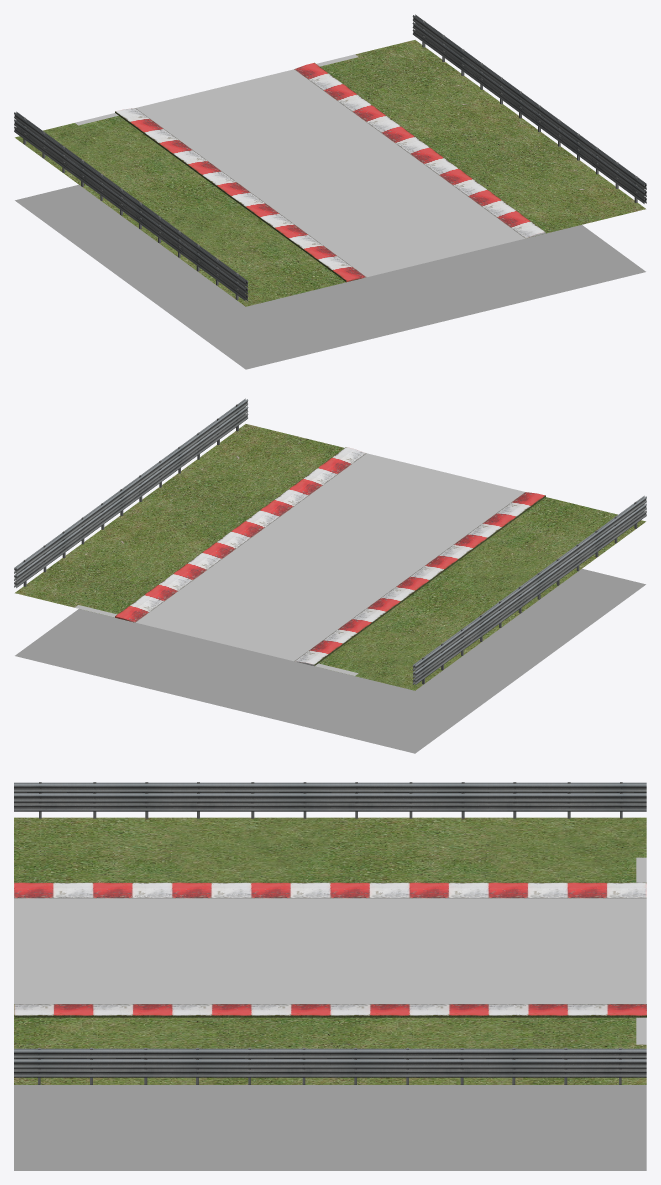
File: Track_Thin_Join_A.fbx
The picture shows the model from 3 angles, top to bottom: view 1: azimuth 30°, elevation 25°; view 2: azimuth 150°, elevation 25°; view 3: azimuth 270°, elevation 25°; orthographic projection. The views are drawn at different scales.
Visible parts, largest first — view 1: Grass, Snap_Plane_Invisible, Road, Rail_A, Rail_B, Curb_B, Curb_A; view 2: Grass, Snap_Plane_Invisible, Road, Rail_A, Rail_B, Curb_B, Curb_A; view 3: Road, Grass, Snap_Plane_Invisible, Rail_A, Rail_B, Curb_A, Curb_B, Join_Lines.
Boxes of the visible parts, x1,y1,x2,y2 form: Grass: (15, 40, 645, 306); Snap_Plane_Invisible: (15, 184, 645, 369); Road: (136, 69, 524, 276); Rail_A: (14, 111, 248, 300); Rail_B: (412, 14, 646, 203); Curb_B: (294, 62, 545, 238); Curb_A: (115, 108, 366, 282); Grass: (15, 424, 645, 690); Snap_Plane_Invisible: (15, 568, 645, 753); Road: (136, 453, 524, 661); Rail_A: (412, 495, 646, 684); Rail_B: (14, 398, 248, 587); Curb_B: (115, 447, 366, 622); Curb_A: (294, 492, 545, 666); Road: (14, 898, 646, 1003); Grass: (14, 817, 646, 1084); Snap_Plane_Invisible: (14, 1085, 646, 1170); Rail_A: (14, 782, 646, 818); Rail_B: (14, 1048, 646, 1084); Curb_A: (14, 882, 646, 898); Curb_B: (14, 1004, 646, 1017); Join_Lines: (636, 857, 646, 1044).
Size of the model in its own units: 20.05 by 4.24 by 20.01.
